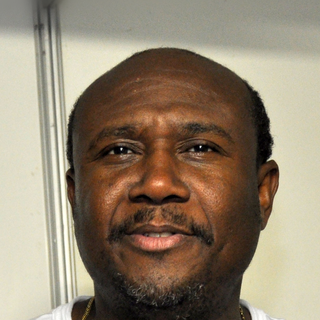eye: (179, 138, 226, 162), (98, 139, 143, 164)
